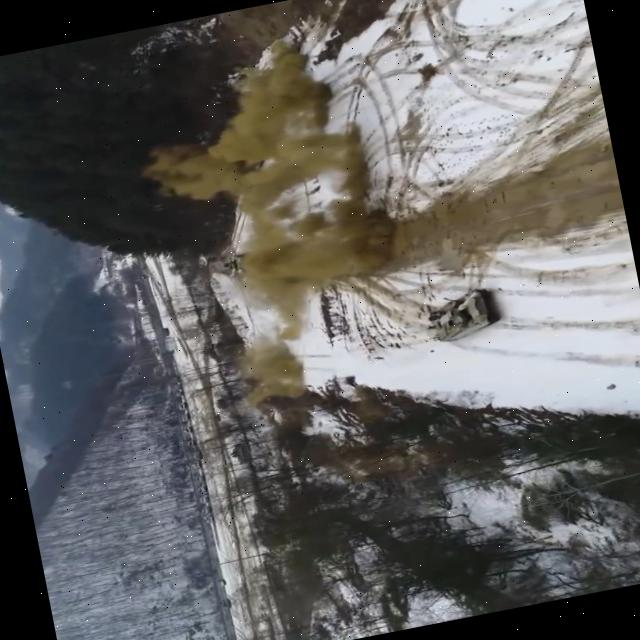korea tank: (418, 284, 507, 349)
